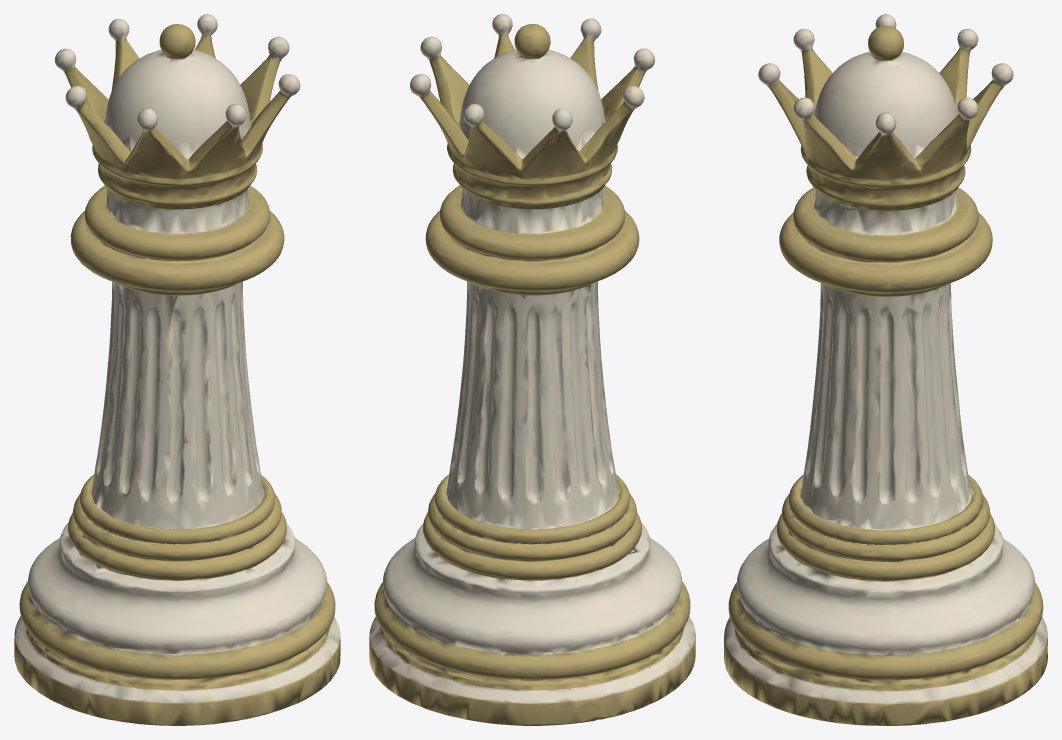
File: queen-classic-regina-50k.glb
3 views of the same model, side by side, from view 1: azimuth 30°, elevation 25°; view 2: azimuth 150°, elevation 25°; view 3: azimuth 270°, elevation 25° (orthographic).
Parts seen in each view (by area): view 1: world; view 2: world; view 3: world.
Part boxes in pixels (bbox=[...]): world: bbox=[14, 14, 340, 725]; world: bbox=[369, 14, 695, 725]; world: bbox=[724, 14, 1047, 725].
Size of the model in its own units: 0.7683 by 1.65 by 0.7685.
Materials: 1 (1 with a texture image).
